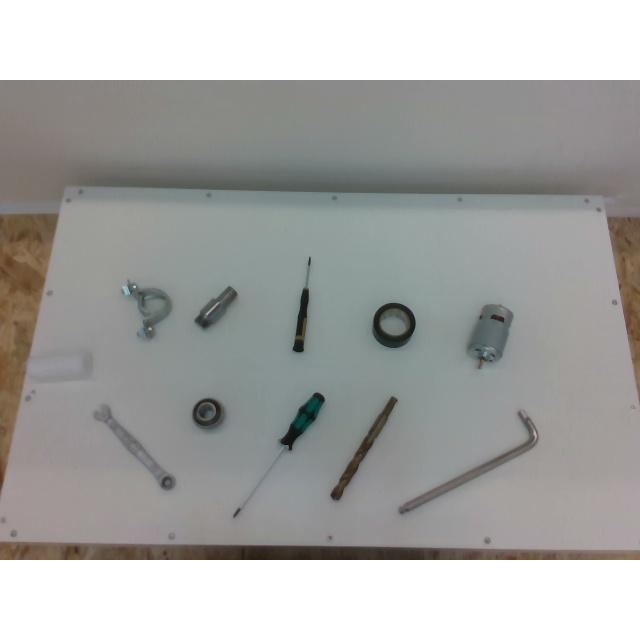AllenKey: (398, 409, 538, 513)
Axis2: (195, 286, 237, 326)
Bearing2: (192, 398, 224, 428)
Drill: (330, 396, 398, 499)
Housing: (121, 280, 171, 338)
Motor2: (468, 304, 512, 361)
Screwdriver: (232, 392, 324, 518)
Spacer: (28, 349, 92, 381)
Wrench: (93, 404, 175, 490)
